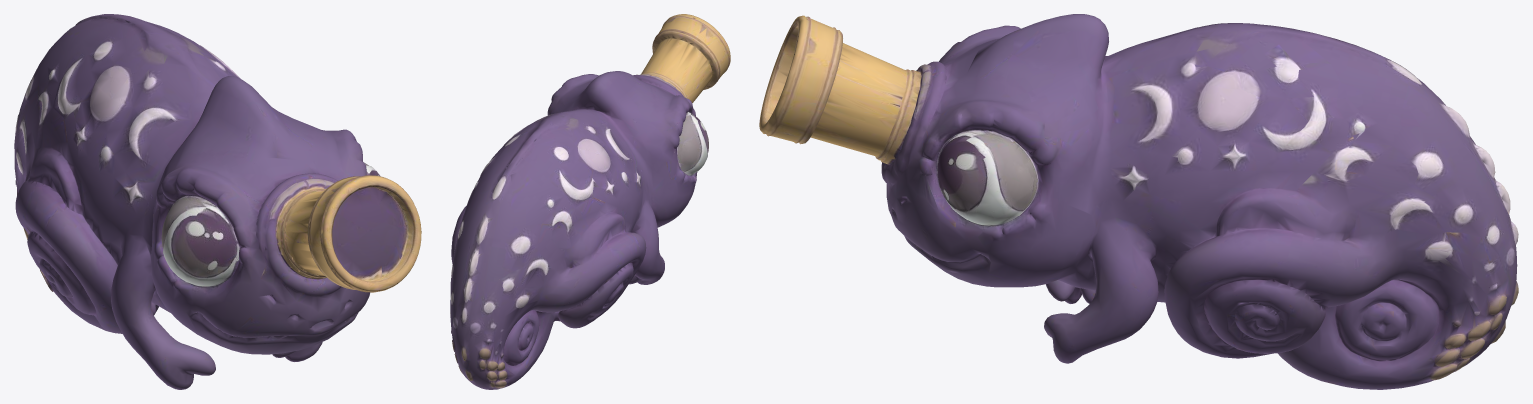
3 views of the same model, side by side, from view 1: azimuth 30°, elevation 25°; view 2: azimuth 150°, elevation 25°; view 3: azimuth 270°, elevation 25° (orthographic). The views are drawn at different scales.
Visible parts, largest first — view 1: Mesh_0; view 2: Mesh_0; view 3: Mesh_0.
Part boxes in pixels (<box>): Mesh_0: <box>14,14,421,389</box>; Mesh_0: <box>450,14,730,389</box>; Mesh_0: <box>759,14,1518,389</box>.
Size of the model in its own units: 0.7669 by 1.03 by 1.9.
Materials: 1 (1 with a texture image).
